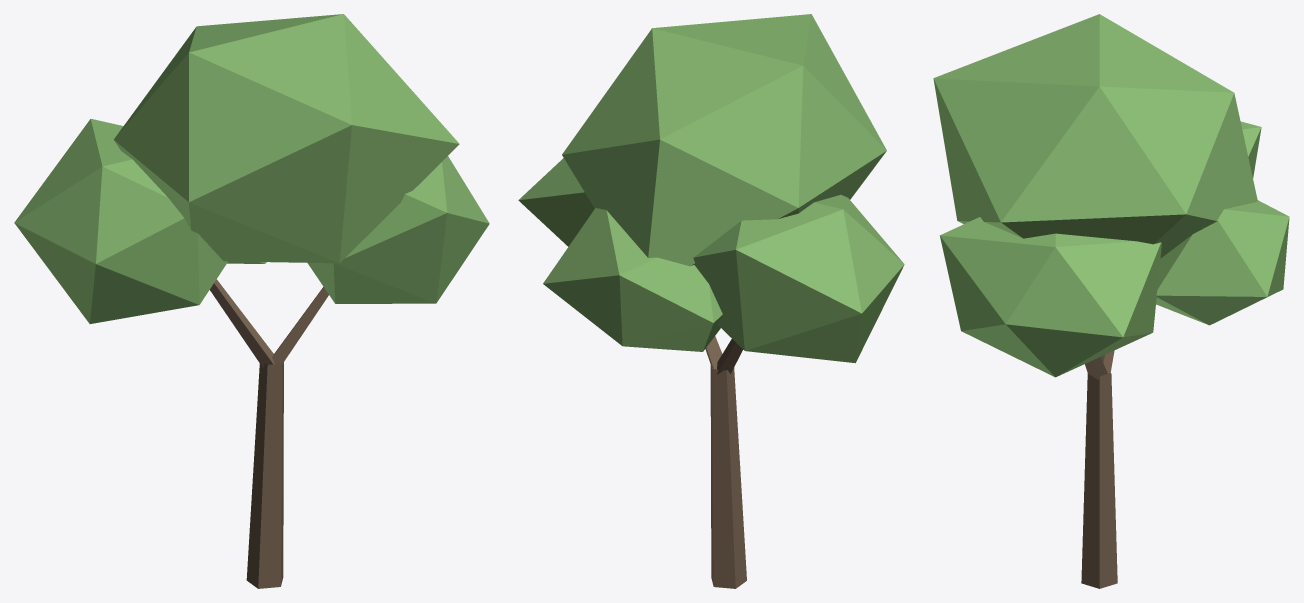
The model's file is facet-broad.glb.
The picture shows the model from 3 angles, left to right: view 1: azimuth 30°, elevation 25°; view 2: azimuth 150°, elevation 25°; view 3: azimuth 270°, elevation 25°; orthographic projection. The views are drawn at different scales.
Size of the model in its own units: 6.05 by 7.98 by 4.85.
